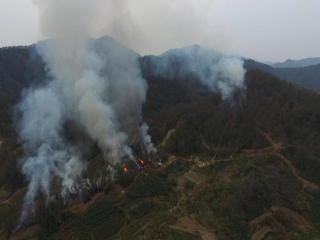smoke: (10, 3, 156, 206), (187, 42, 250, 109)
